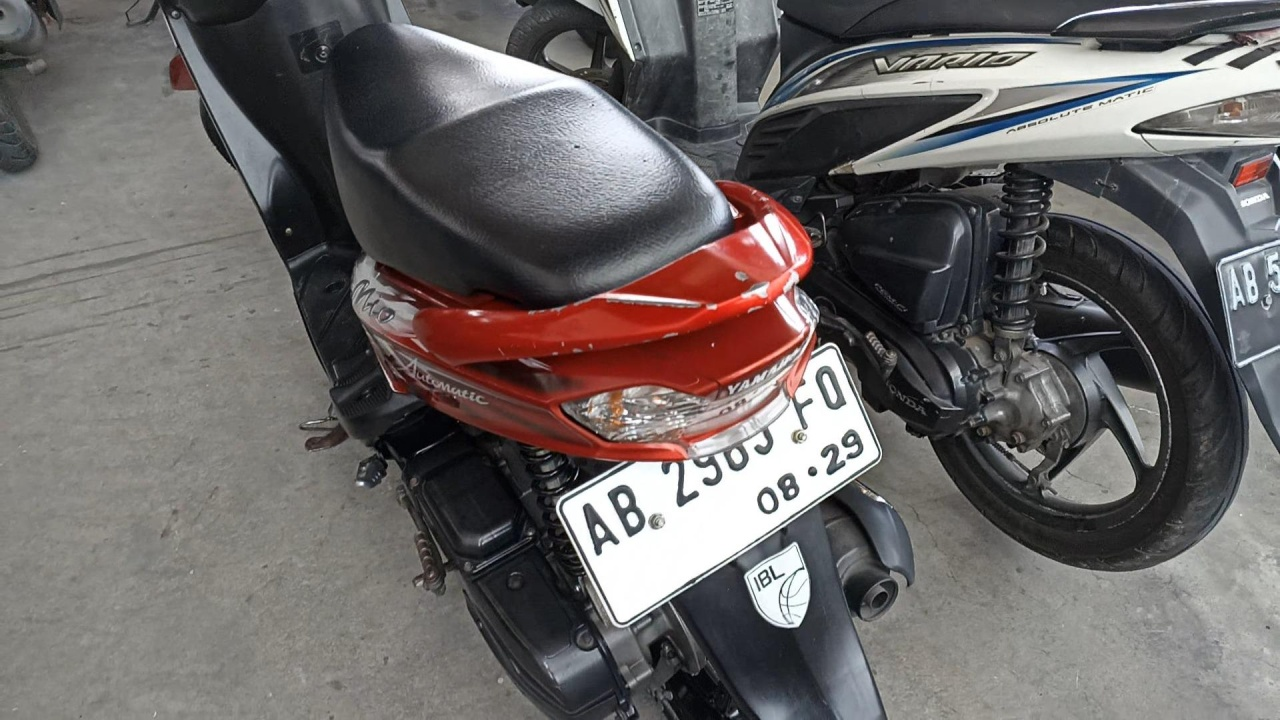plate: (558, 343, 887, 633)
